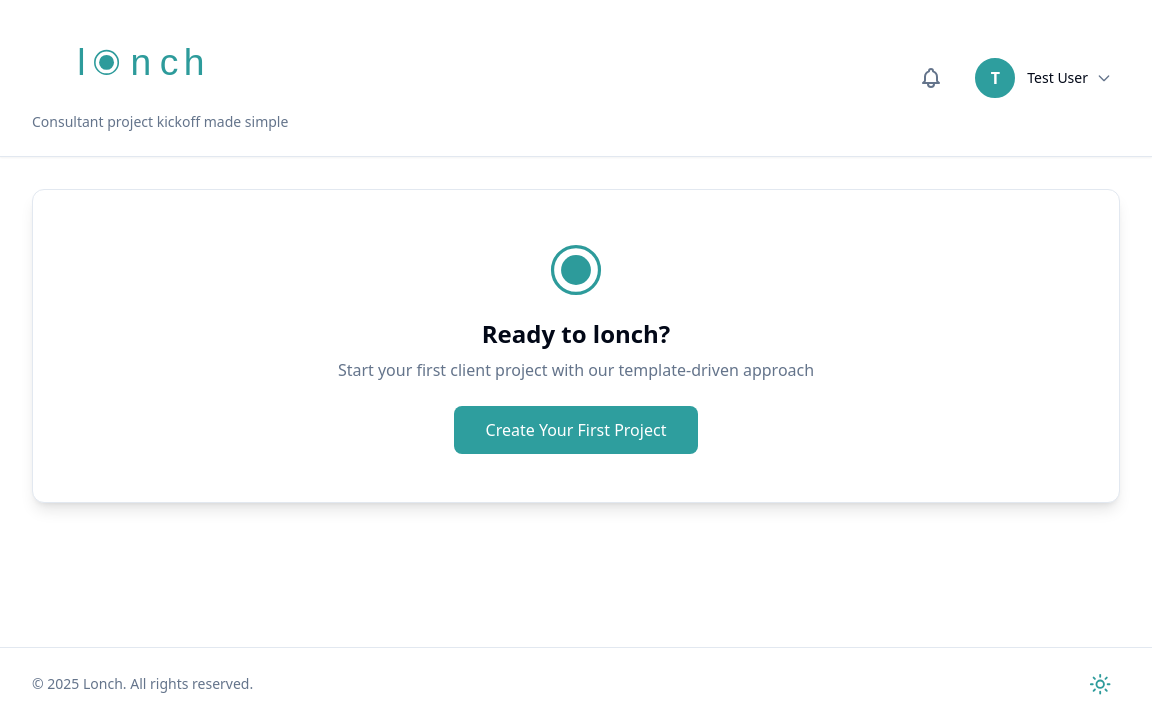
Test: Lonch App › wizard navigates to step 2 (Project Basics) when Next is clicked
What coordinates should you click on to do the following:
click the button "Create Your First Project"
I would click on:
 (576, 430)
Its box is [454, 406, 698, 454].
(page scrolled)
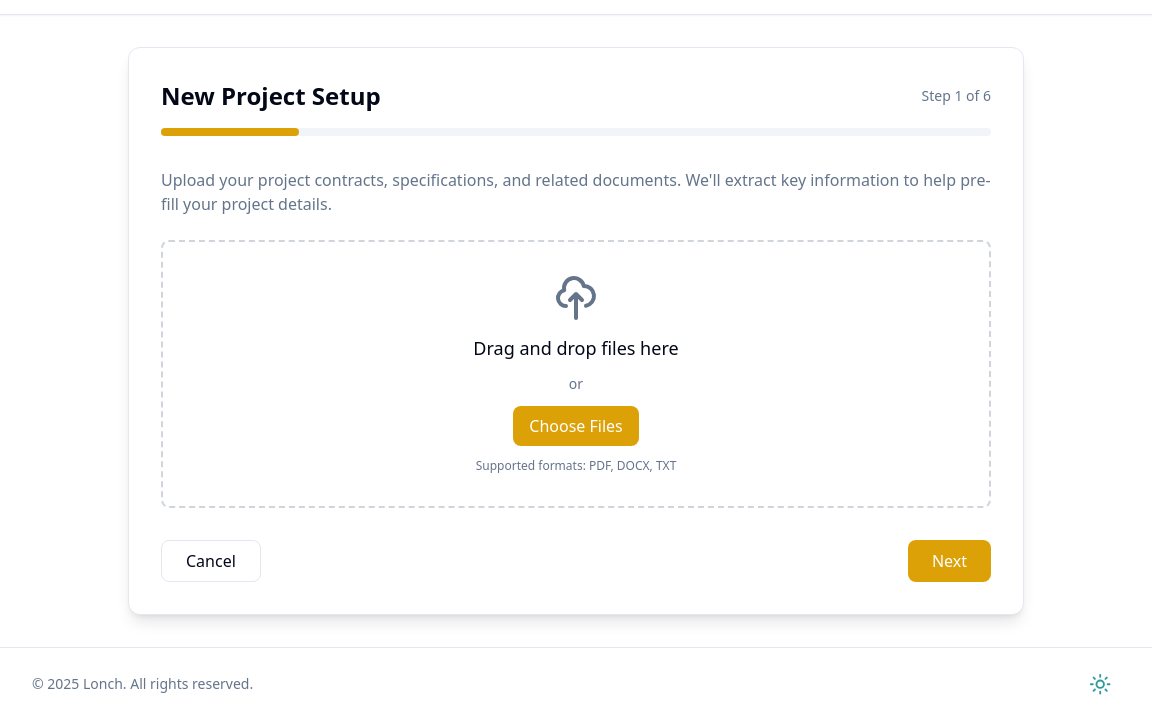
Expected: the heading "New Project Setup" is shown, [161, 80, 381, 112]
Note: Click Next to go to Step 2
What coordinates should you click on to do the following:
click the button "Next"
I would click on:
 (949, 561)
Its box is [908, 540, 991, 582].
(page scrolled)
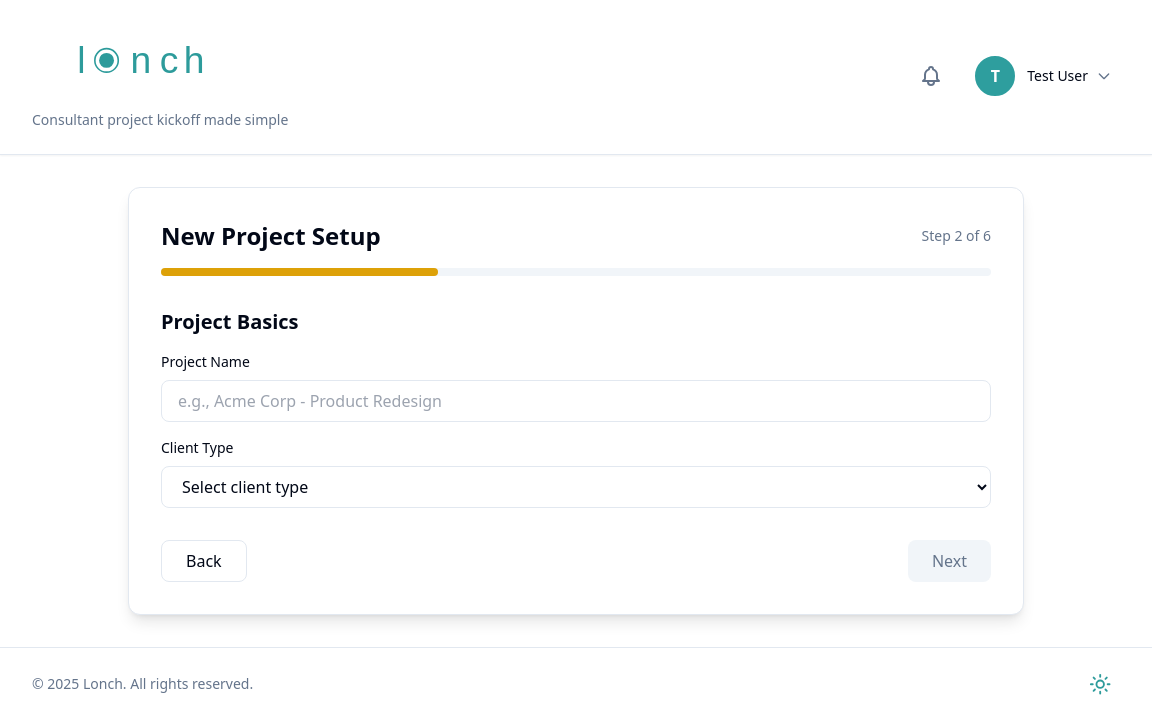
Expected: the text "Step 2 of 6" is shown, [922, 226, 991, 246]
Expected: the heading "Project Basics" is shown, [161, 308, 298, 335]
Expected: the field with placeholder "e.g., Acme Corp - Product Redesign" is shown, [161, 380, 991, 422]
